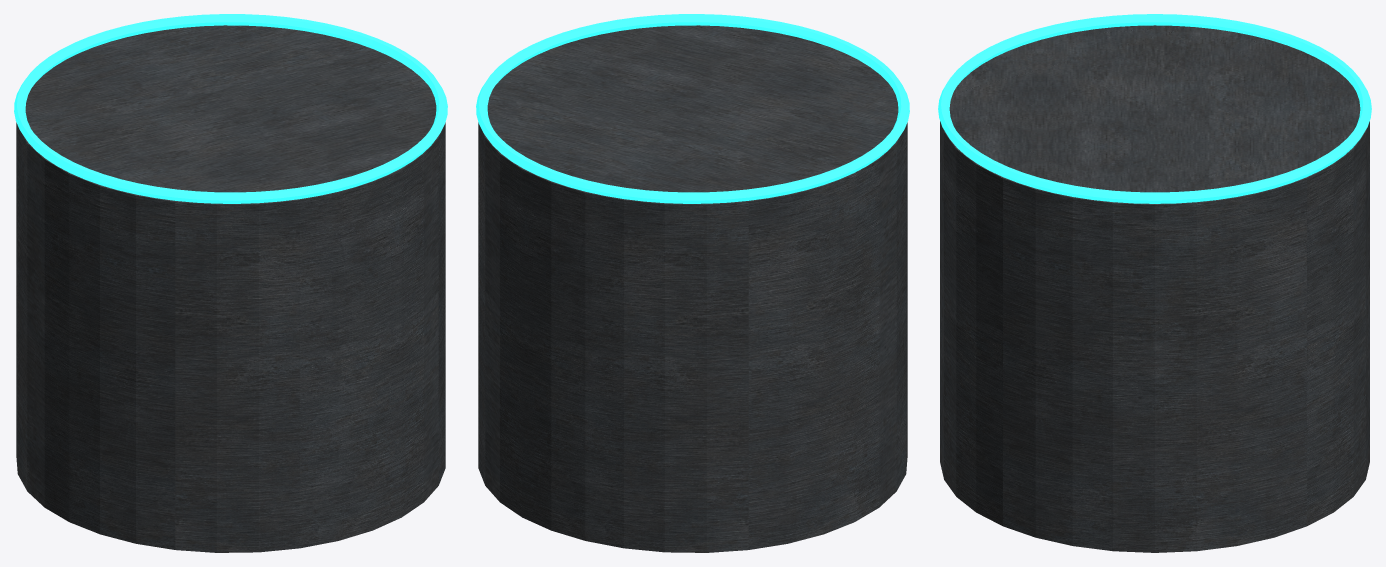
Rendered from commons-display-plinth.glb.
3 renders of one model, left to right at view 1: azimuth 30°, elevation 25°; view 2: azimuth 150°, elevation 25°; view 3: azimuth 270°, elevation 25°, orthographic.
Visible parts, largest first — view 1: AV_DemoPedestal.001, AV_DemoRim.001; view 2: AV_DemoPedestal.001, AV_DemoRim.001; view 3: AV_DemoPedestal.001, AV_DemoRim.001.
Part boxes in pixels (left/top/right/bottom): AV_DemoPedestal.001: left=16, top=25, right=445, bottom=552; AV_DemoRim.001: left=14, top=14, right=447, bottom=203; AV_DemoPedestal.001: left=478, top=25, right=907, bottom=552; AV_DemoRim.001: left=476, top=14, right=909, bottom=203; AV_DemoPedestal.001: left=940, top=25, right=1369, bottom=552; AV_DemoRim.001: left=938, top=14, right=1371, bottom=203.
Bounding box in the file's own units: 1.13 × 1.03 × 1.13.
2 materials, 1 textured.
